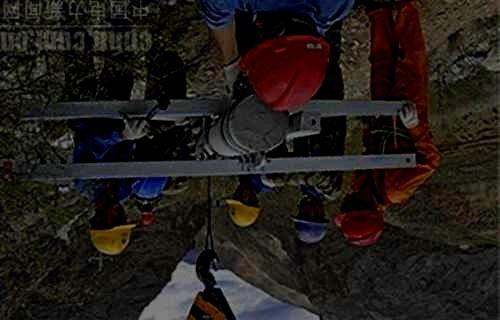helmet: (236, 4, 332, 112), (334, 190, 386, 246), (88, 200, 137, 255), (289, 198, 330, 243), (225, 183, 261, 227), (139, 204, 154, 226)
